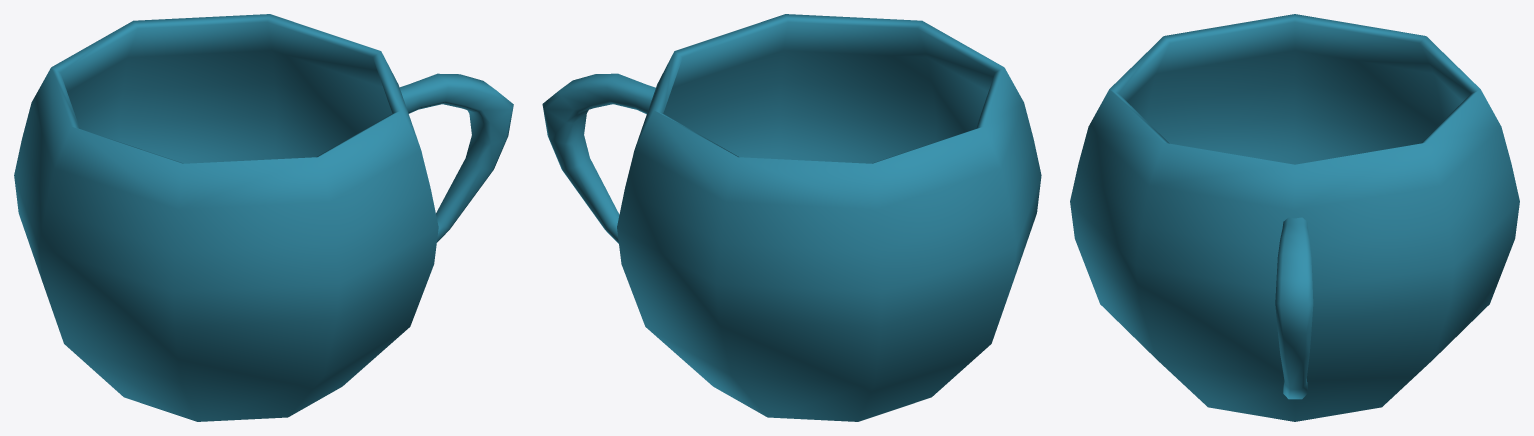
File: mug.glb
3 renders of one model, left to right at view 1: azimuth 30°, elevation 25°; view 2: azimuth 150°, elevation 25°; view 3: azimuth 270°, elevation 25°, orthographic.
Visible parts, largest first — view 1: sercups_demitasse_Cylinder.106; view 2: sercups_demitasse_Cylinder.106; view 3: sercups_demitasse_Cylinder.106.
Part boxes in pixels (x1,y1,x2,y2): sercups_demitasse_Cylinder.106: (14, 14, 513, 421); sercups_demitasse_Cylinder.106: (542, 14, 1041, 421); sercups_demitasse_Cylinder.106: (1070, 14, 1519, 421).
Bounding box in the file's own units: 2.89 × 1.67 × 2.42.
1 material, 1 textured.
